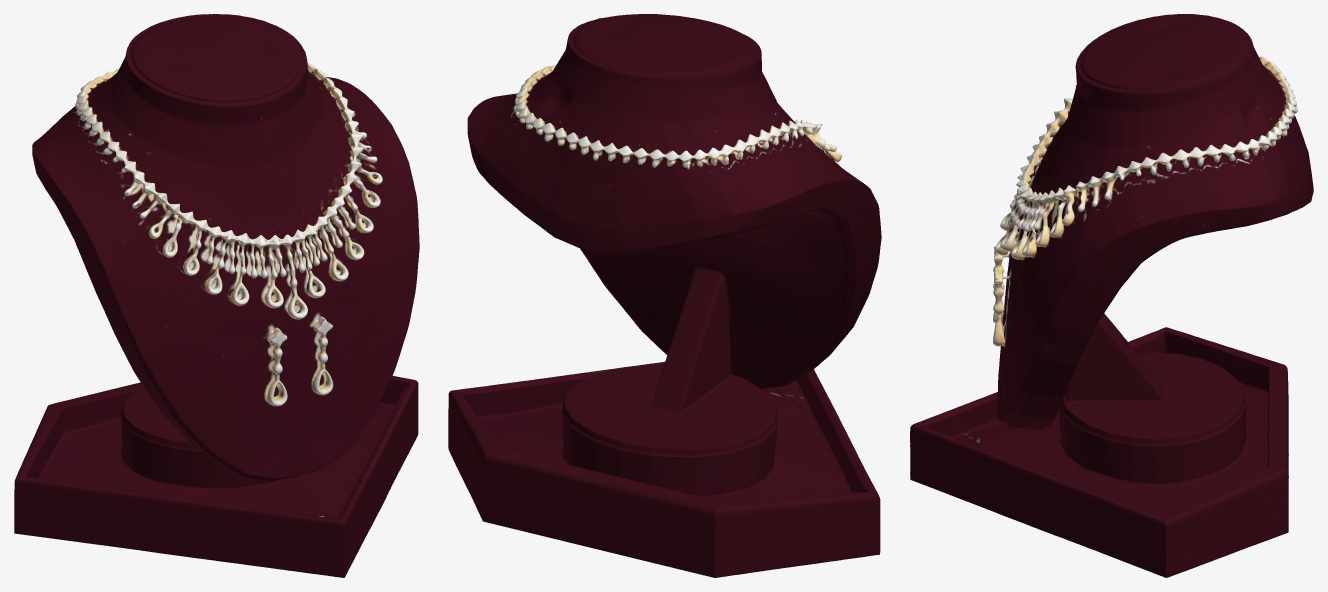
3 views of the same model, side by side, from view 1: azimuth 30°, elevation 25°; view 2: azimuth 150°, elevation 25°; view 3: azimuth 270°, elevation 25° (orthographic). The views are drawn at different scales.
Size of the model in its own units: 1.84 by 1.9 by 1.6.
Materials: 1 (1 with a texture image).
